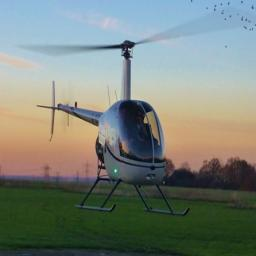helicopter: (35, 40, 190, 217)
